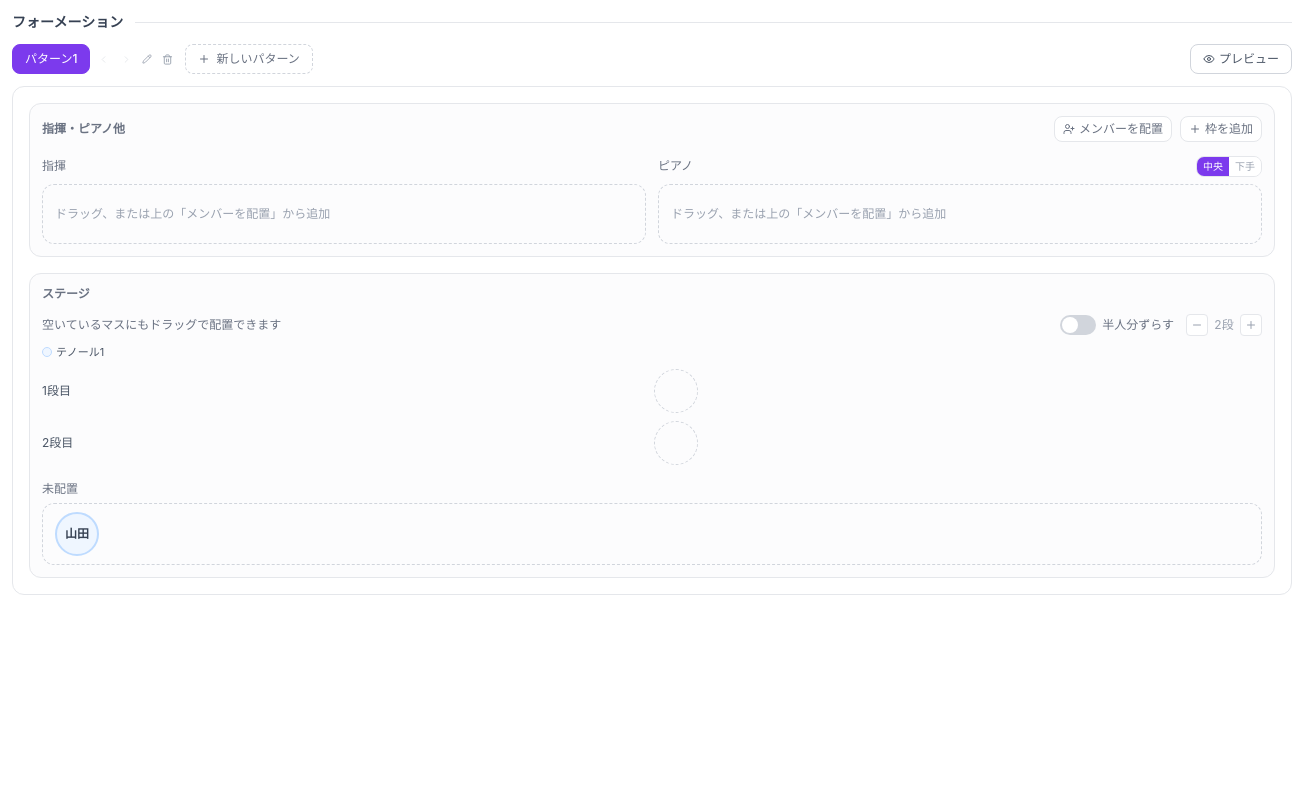
OnstageTab（パターンCRUD） › 鉛筆でパターン名の入力欄に切り替わり、Enter で保存して表示を更新する
Click the button named "パターン1を編集" at (147, 59), box [140,52,154,66]
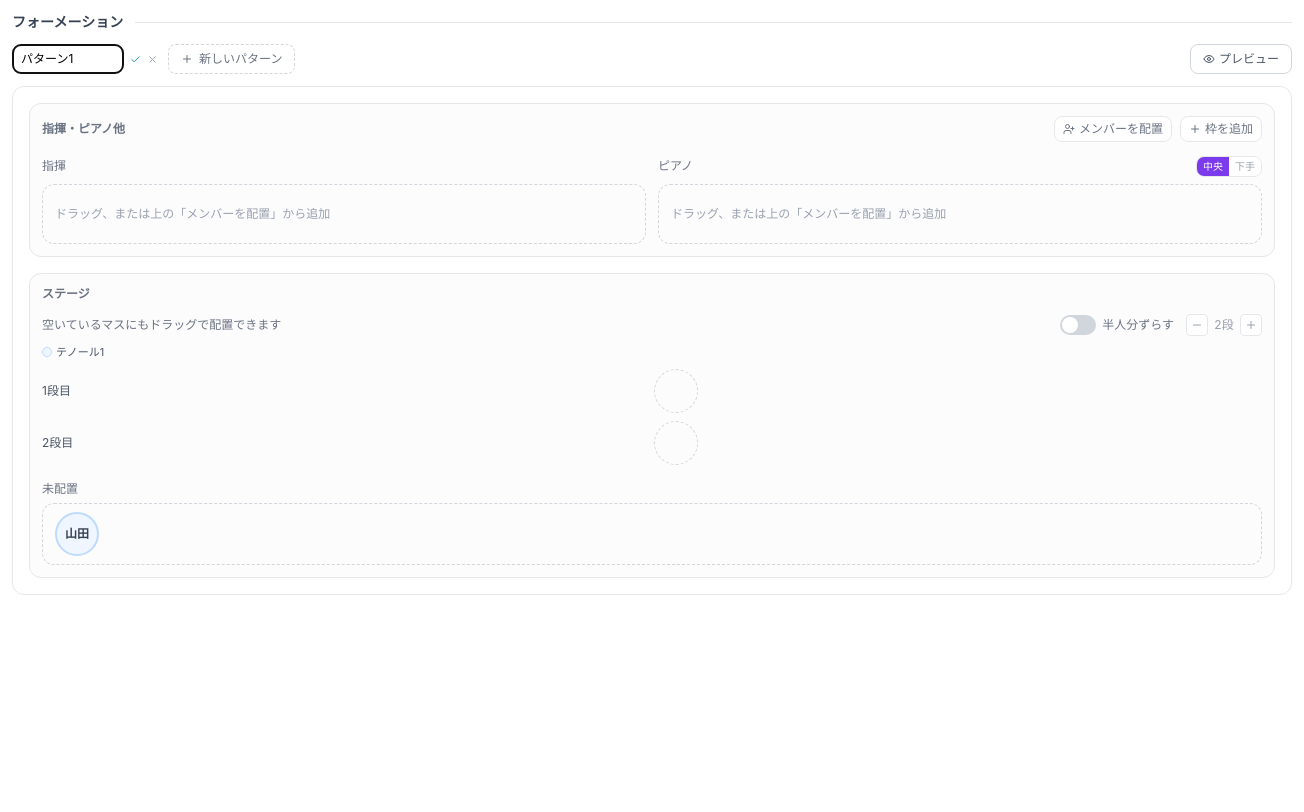
Replace the text in the field named "パターン名" with " 改称パターン " at (68, 59), box [12,44,124,74]
Then press Enter
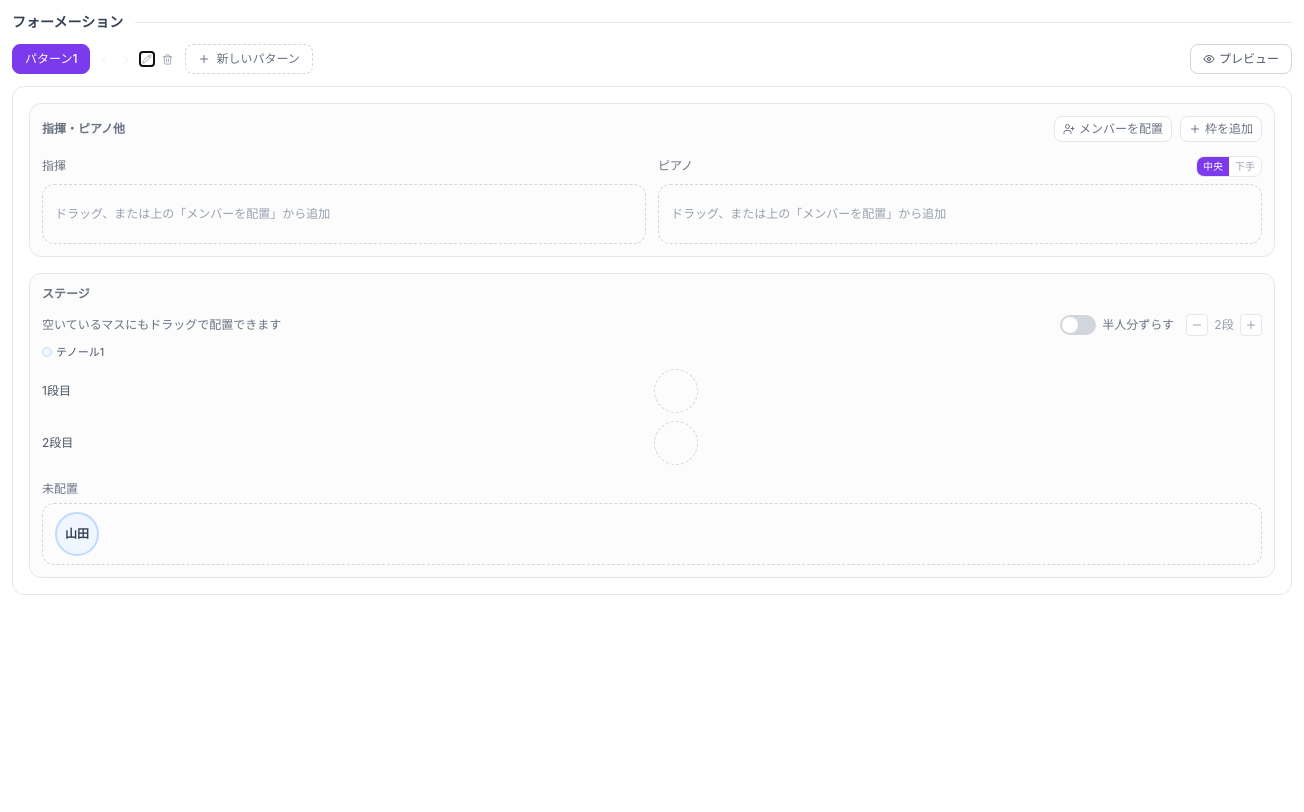
Expected: the field labelled "パターン名" is gone
